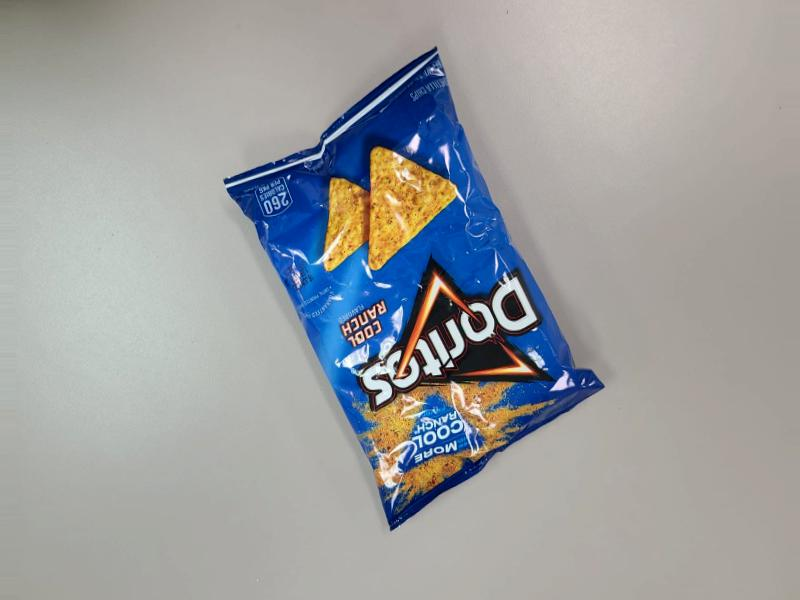doritos: (230, 87, 654, 597)
